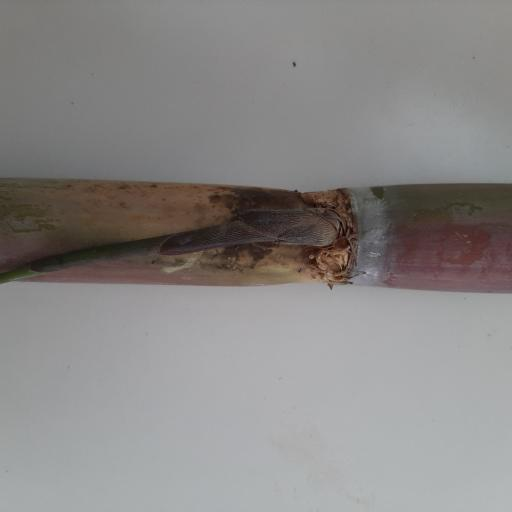Sprouted_Bud: (235, 203, 343, 246)
